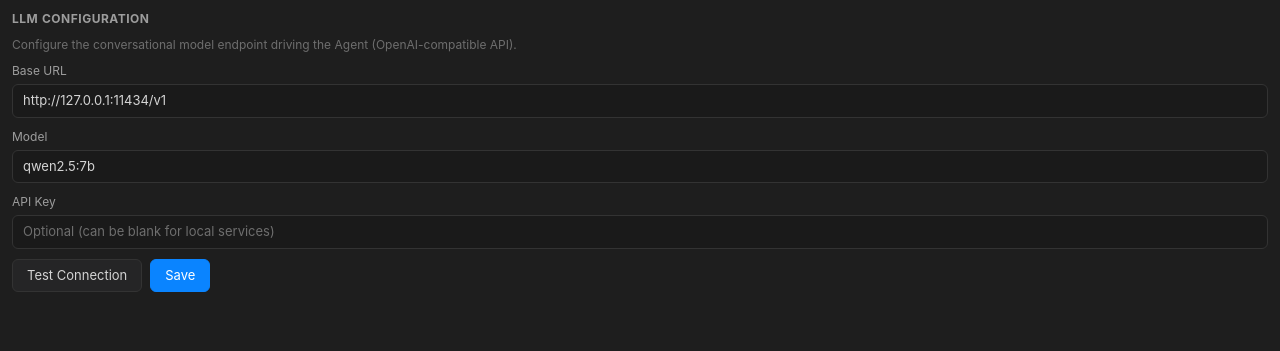
Scenario: SettingsPanel › surfaces a failed connection probe
The width and height of the screenshot is (1280, 351).
expect the field with test id "input-base-url" is shown: met, box top-left (12, 84), bottom-right (1268, 118)
Click the button with test id "btn-test-settings".
click(77, 275)  # box top-left (12, 258), bottom-right (142, 292)
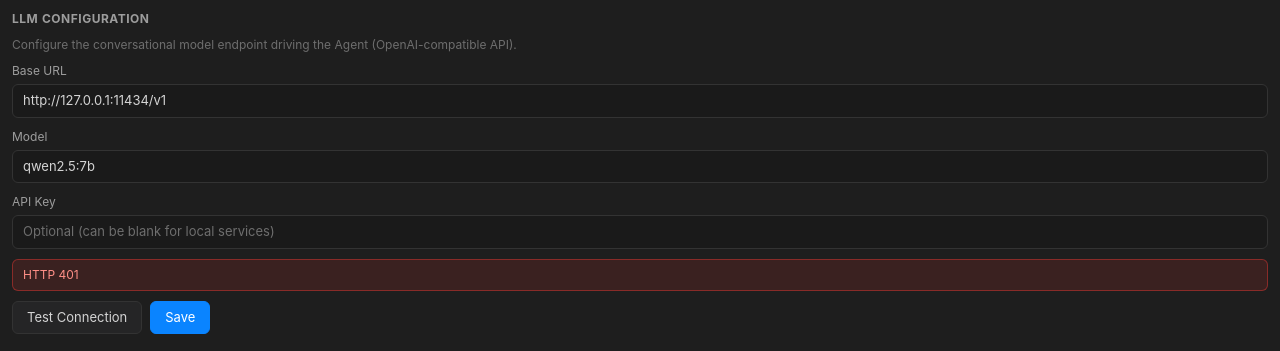
expect the message with test id "settings-notice" reads "HTTP 401": met, box top-left (23, 266), bottom-right (79, 282)
